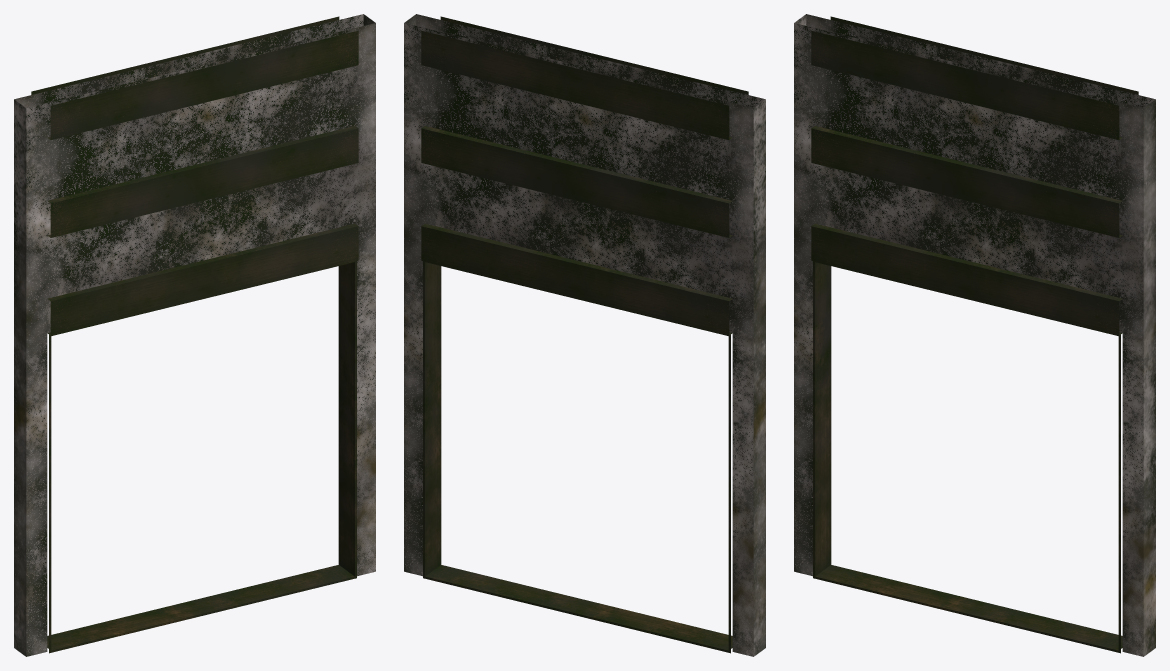
The model's file is shrine_wall_gate.fbx.
3 views of the same model, side by side, from view 1: azimuth 30°, elevation 25°; view 2: azimuth 150°, elevation 25°; view 3: azimuth 330°, elevation 25° (orthographic).
Visible parts, largest first — view 1: shrine_wall_gate1; view 2: shrine_wall_gate1; view 3: shrine_wall_gate1.
Boxes of the visible parts, x1,y1,x2,y2 form: shrine_wall_gate1: [14, 14, 375, 656]; shrine_wall_gate1: [404, 14, 765, 656]; shrine_wall_gate1: [794, 14, 1155, 656].
Bounding box in the file's own units: 330 × 495 × 31.69.
Materials: 1 (1 with a texture image).
